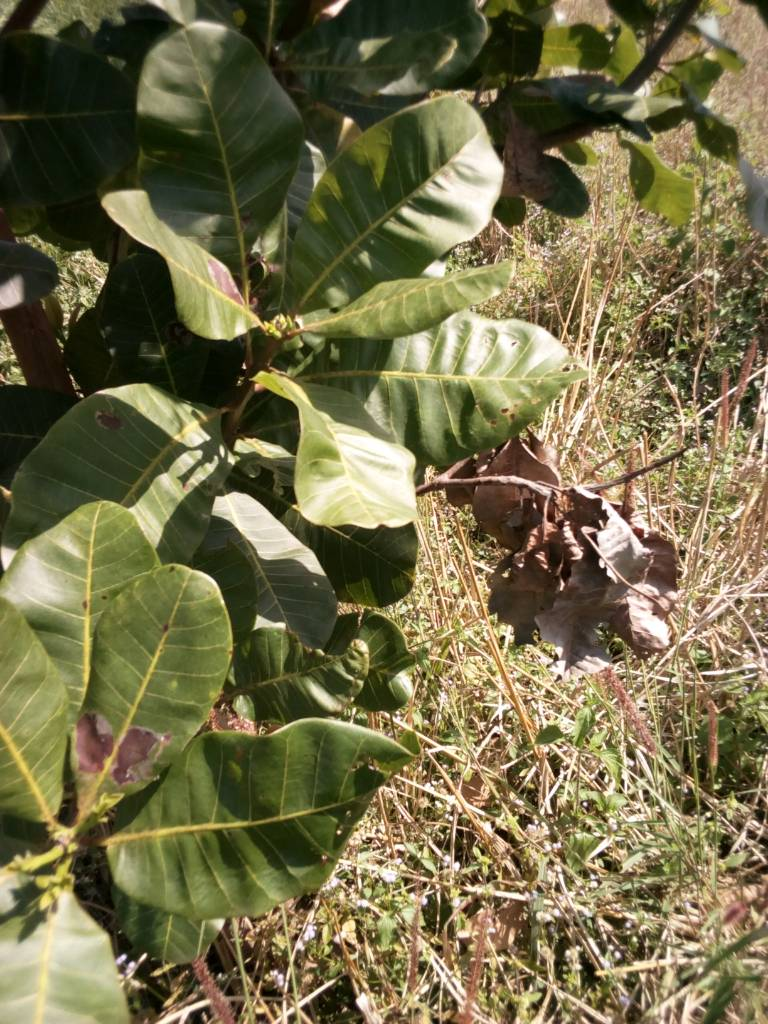Dysdercus wolkerii: (60, 558, 233, 858)
